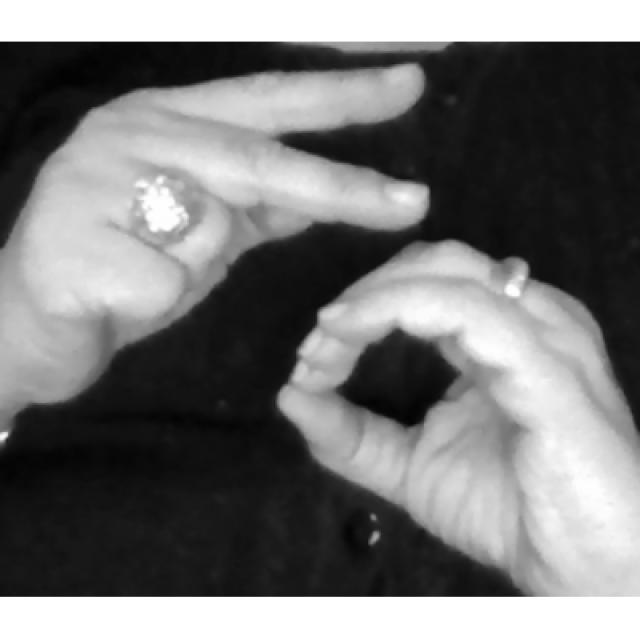O--: (3, 59, 640, 598)
